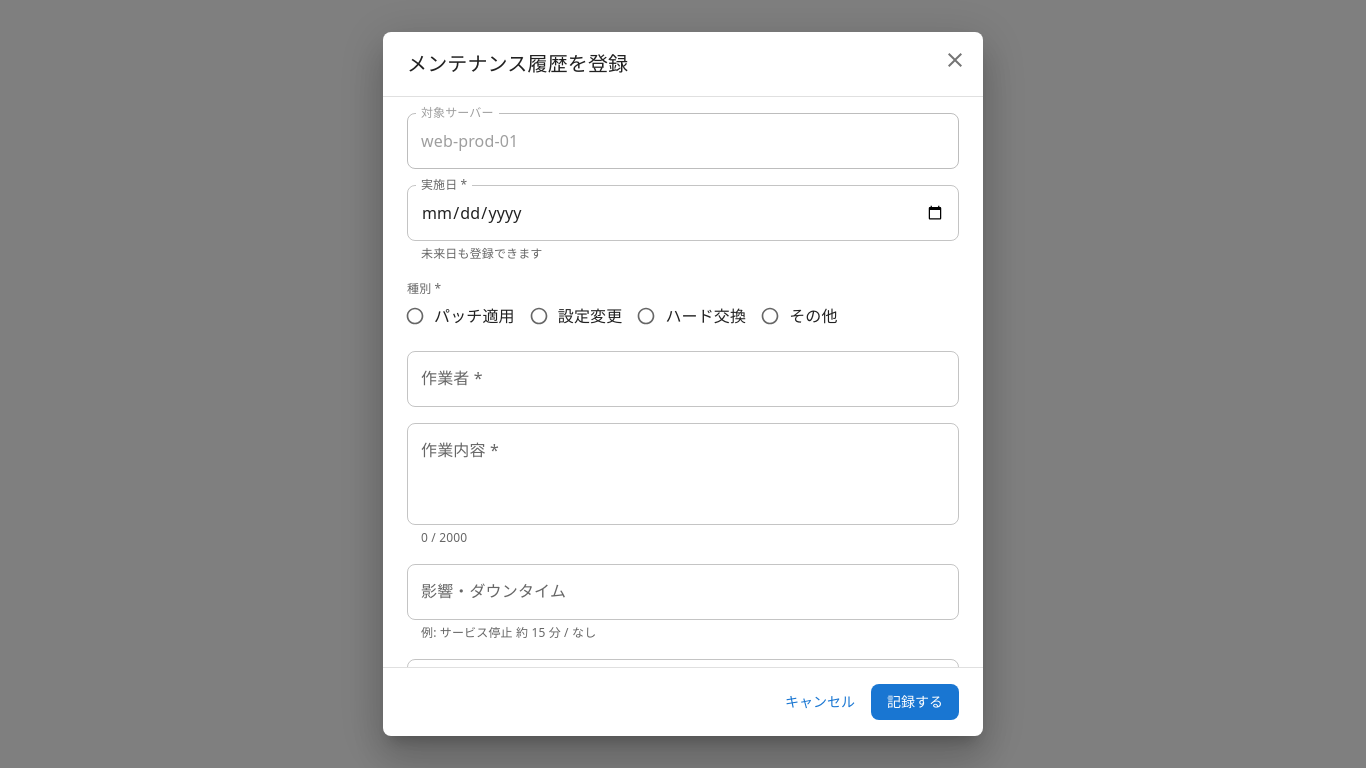
Test case: MaintenanceHistoryFormModal › 必須未入力で送信するとバリデーションエラーを出し API を呼ばない
Click the button "記録する": x=915, y=702 [871,684,959,720]
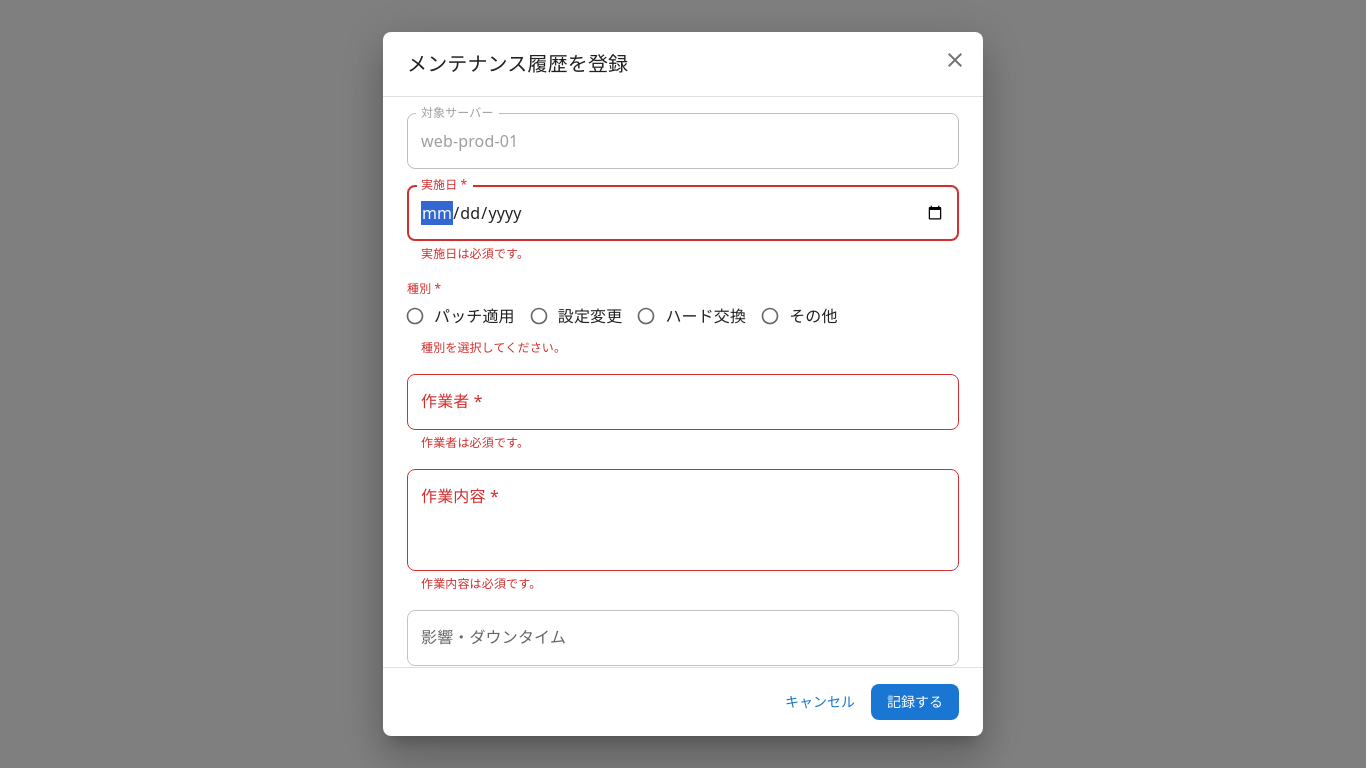
expect the text "実施日は必須です。" is shown: met, box [421,245,529,262]
expect the text "種別を選択してください。" is shown: met, box [421,339,566,356]
expect the text "作業者は必須です。" is shown: met, box [421,434,529,451]
